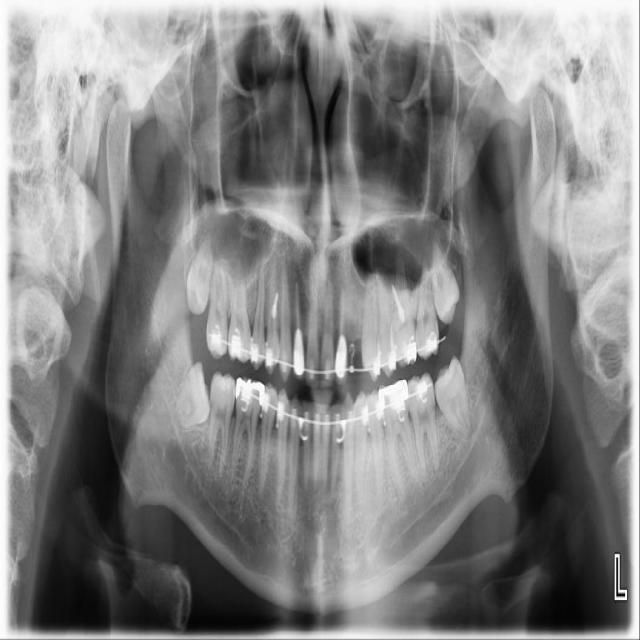3M ESPE Implant: (182, 225, 219, 317)
52: (375, 378, 416, 429), (232, 376, 266, 421), (291, 329, 305, 381), (335, 336, 348, 384)
73: (292, 272, 304, 332), (338, 284, 347, 337), (608, 560, 614, 570)
BioHorizons Implant: (413, 238, 440, 361)
BioLife Implant: (423, 227, 464, 326)
Caries: (206, 252, 228, 359)
Implant: (402, 371, 447, 480), (202, 370, 239, 476)
Keystone Dental Implant: (429, 354, 474, 443), (174, 361, 211, 429)
